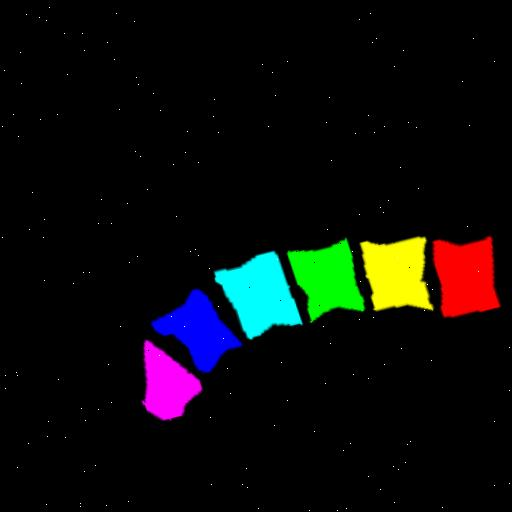L1: (426, 239, 493, 317)
L2: (355, 241, 424, 312)
L3: (282, 241, 356, 323)
L4: (208, 253, 294, 339)
L5: (144, 290, 234, 373)
S1: (135, 341, 193, 422)
